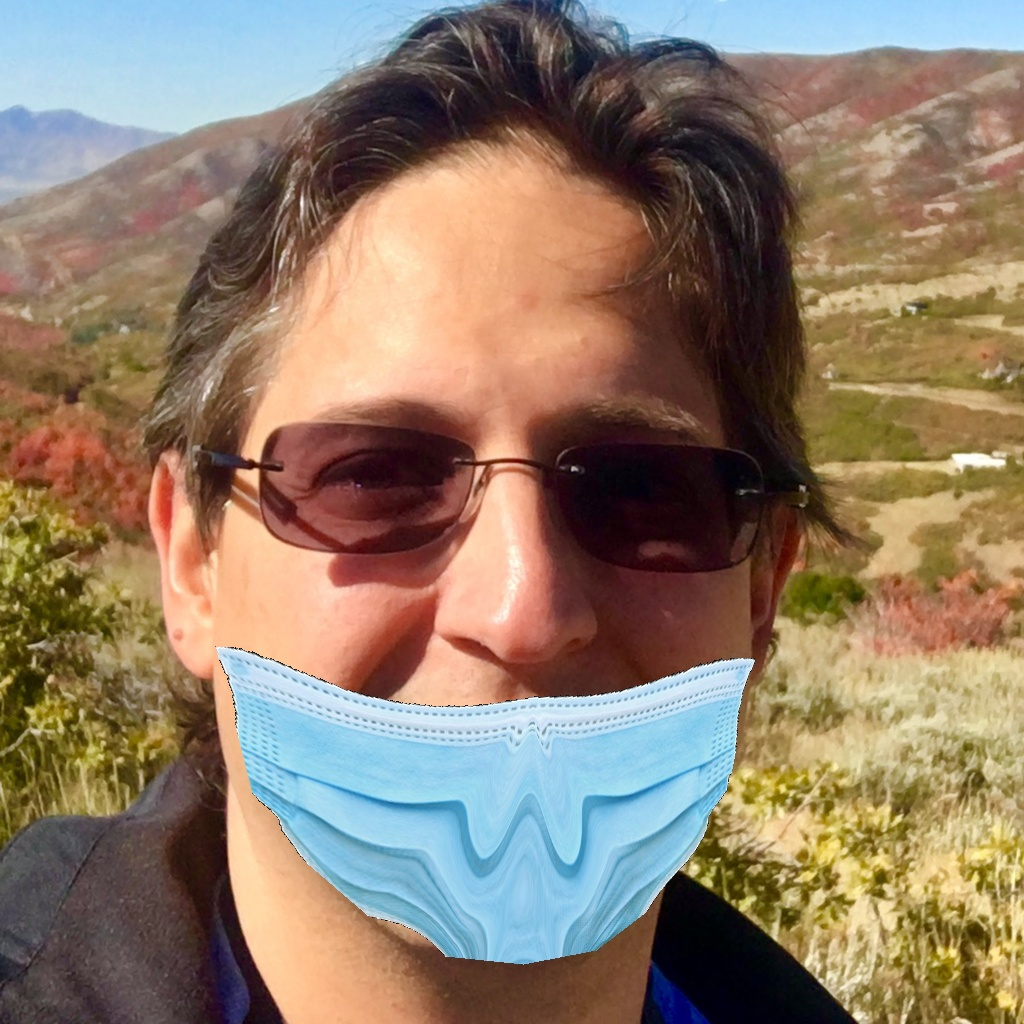mascarilla_mal_puesta: (177, 380, 824, 960)
